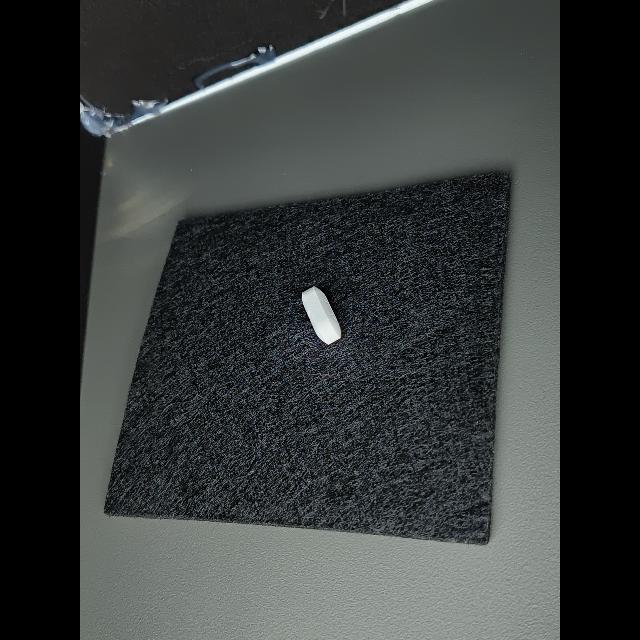Intact Pill: (302, 287, 341, 345)
